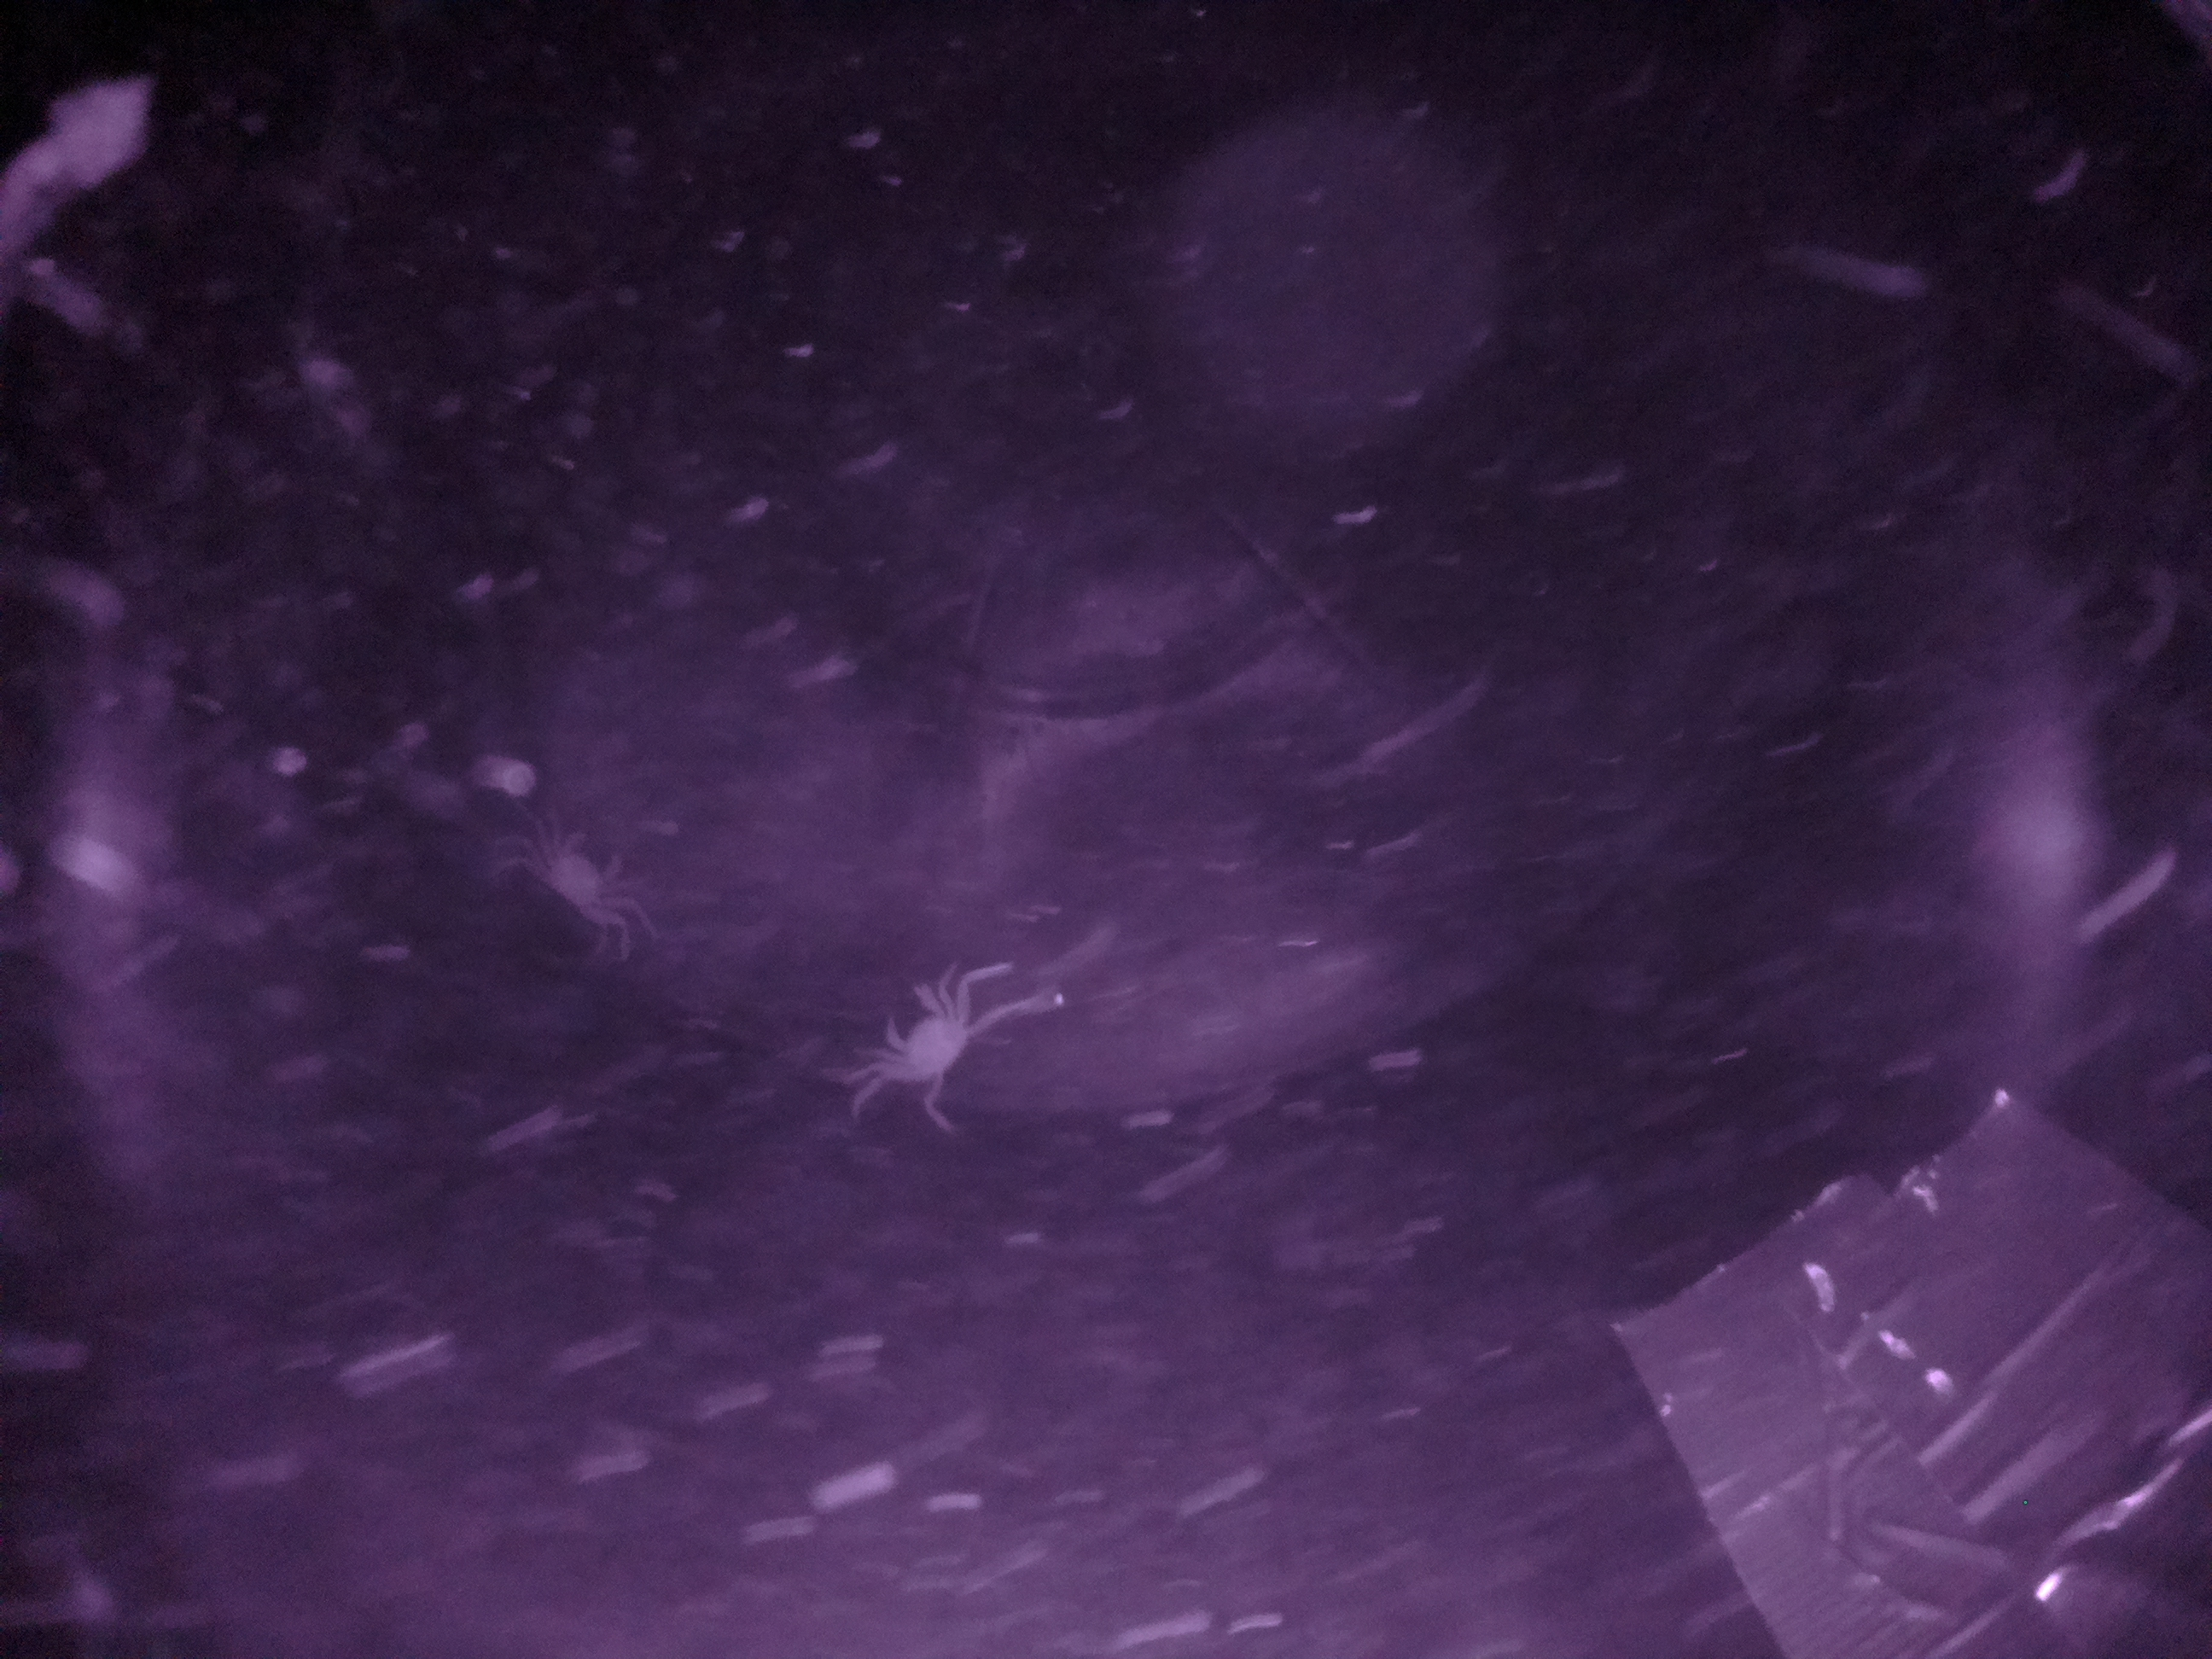Crab: (857, 951, 1007, 1121)
